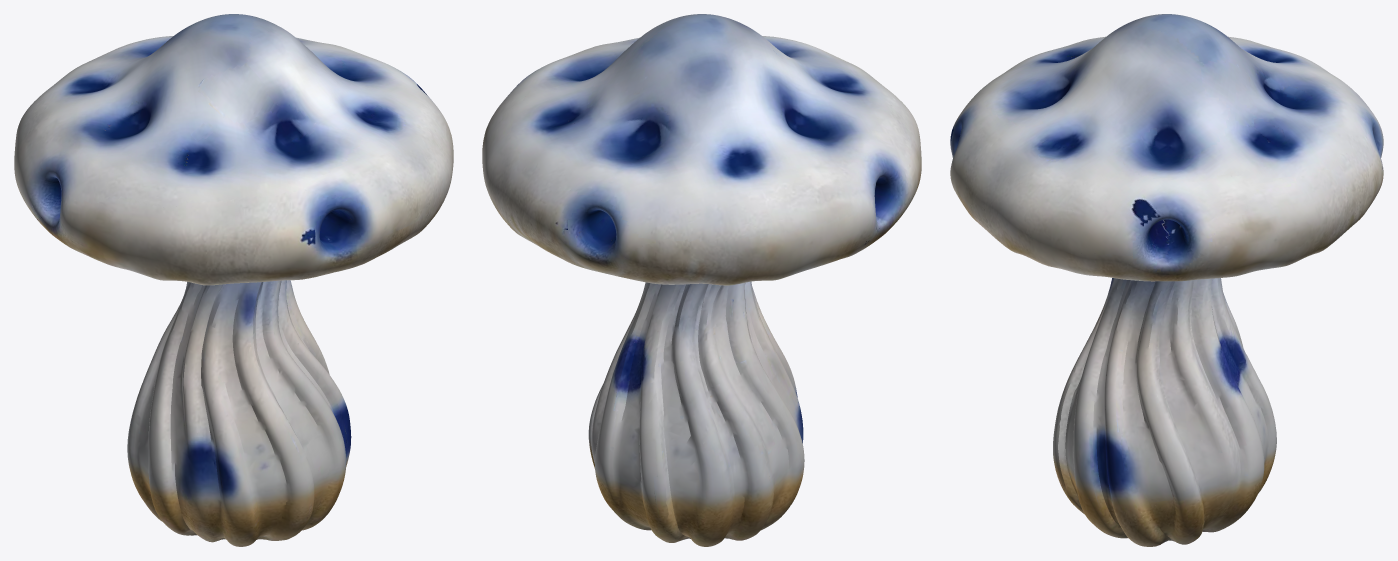
File: Mushroom.glb
The picture shows the model from 3 angles, left to right: view 1: azimuth 30°, elevation 25°; view 2: azimuth 150°, elevation 25°; view 3: azimuth 270°, elevation 25°; orthographic projection.
Parts seen in each view (by area): view 1: Mushroom; view 2: Mushroom; view 3: Mushroom.
Part boxes in pixels (x1,y1,x2,y2): Mushroom: (14, 14, 453, 546); Mushroom: (482, 14, 921, 546); Mushroom: (950, 14, 1383, 546).
Size of the model in its own units: 0.7613 by 0.9559 by 0.761.
Materials: 1 (1 with a texture image).
